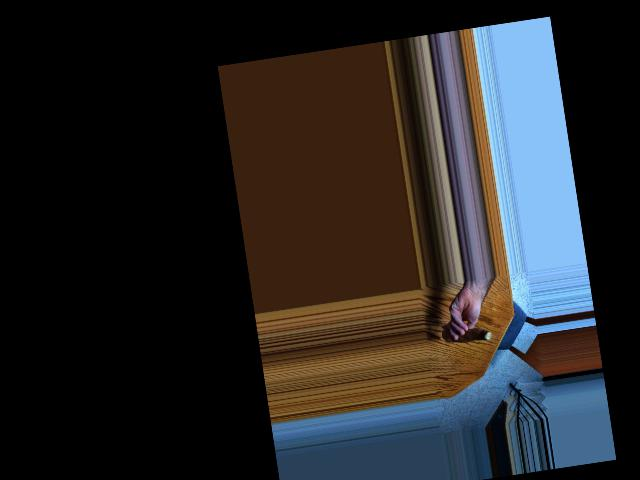sweet_potato: (441, 323, 496, 346)
